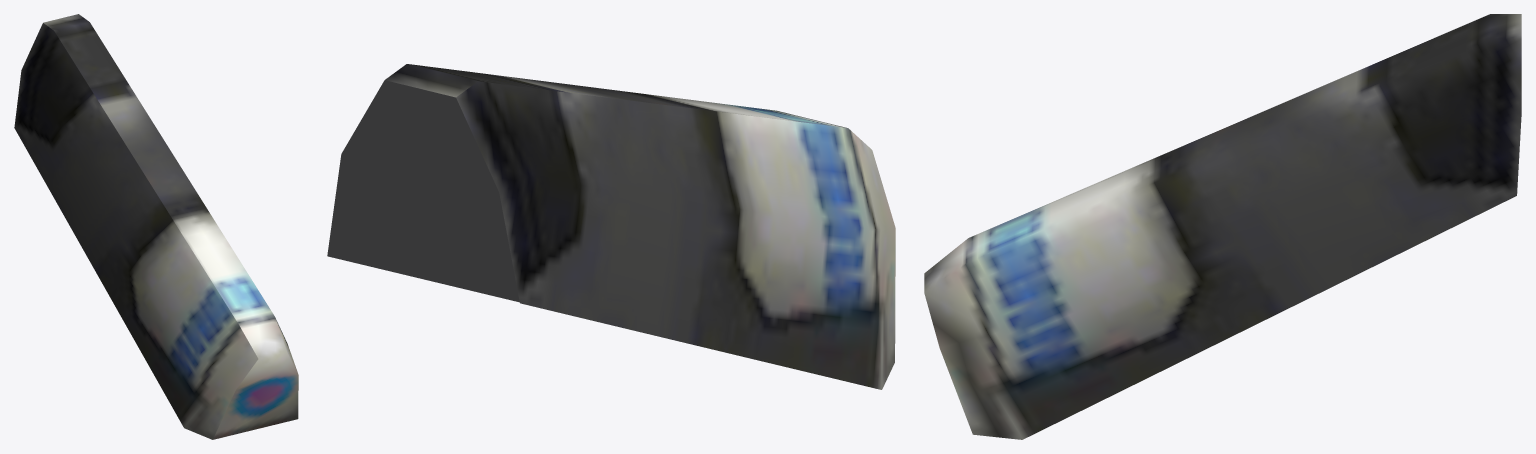
Rendered from gun30_reload.obj.
The picture shows the model from 3 angles, left to right: view 1: azimuth 30°, elevation 25°; view 2: azimuth 150°, elevation 25°; view 3: azimuth 270°, elevation 25°; orthographic projection. The views are drawn at different scales.
Visible parts, largest first — view 1: gun30_reload; view 2: gun30_reload; view 3: gun30_reload.
Boxes of the visible parts, box(x1,y1,x2,y2) form: gun30_reload: box(14, 14, 298, 439); gun30_reload: box(327, 64, 895, 389); gun30_reload: box(924, 14, 1521, 439).
Bounding box in the file's own units: 0.1443 × 0.3443 × 0.4919.
1 material, 1 textured.
